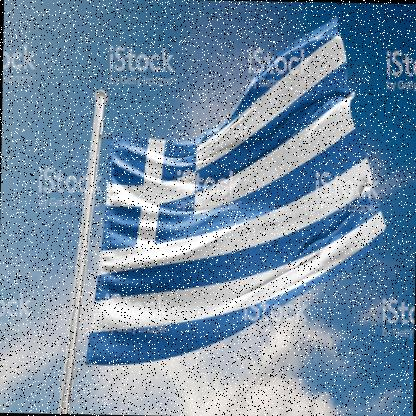gr: (87, 15, 390, 373)
